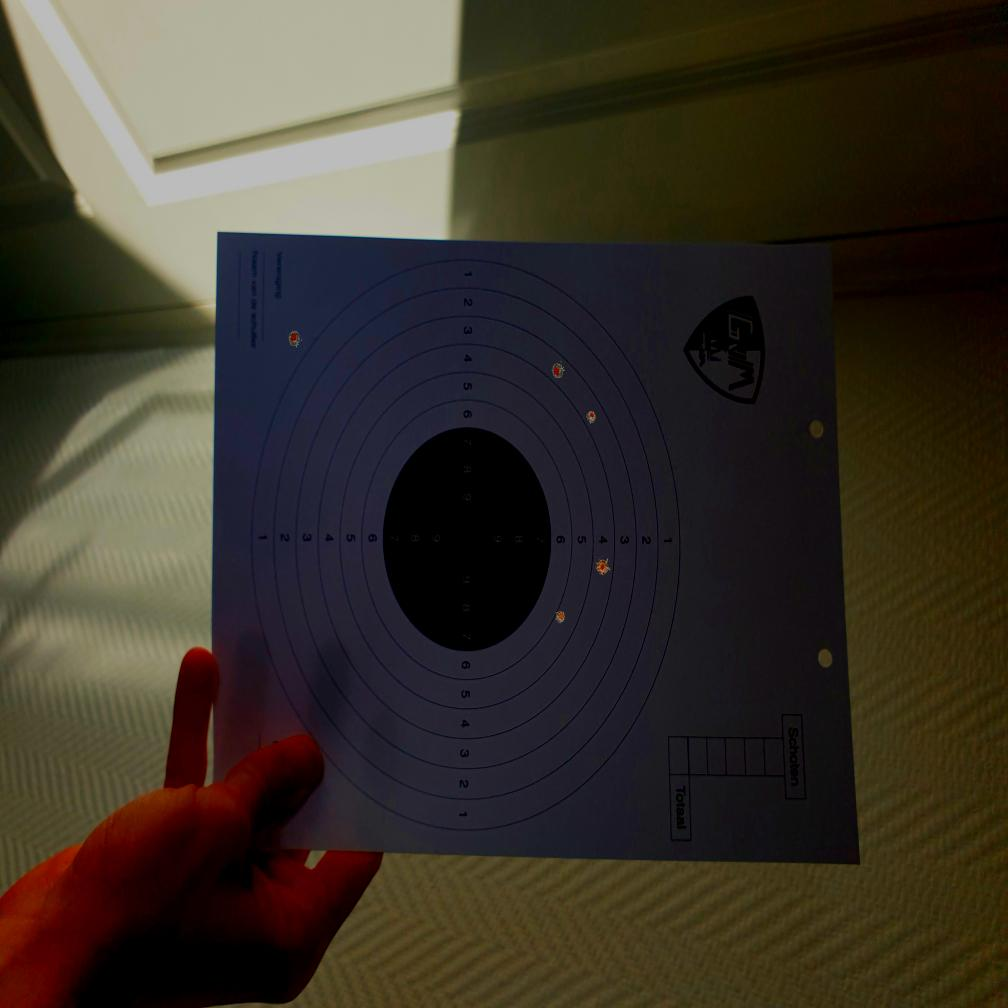0: (285, 326, 303, 351)
3: (551, 359, 566, 381), (586, 409, 596, 426)
4: (594, 558, 612, 578)
6: (554, 610, 567, 624)
Target: (251, 256, 682, 833)
black_contour: (382, 427, 551, 651)
